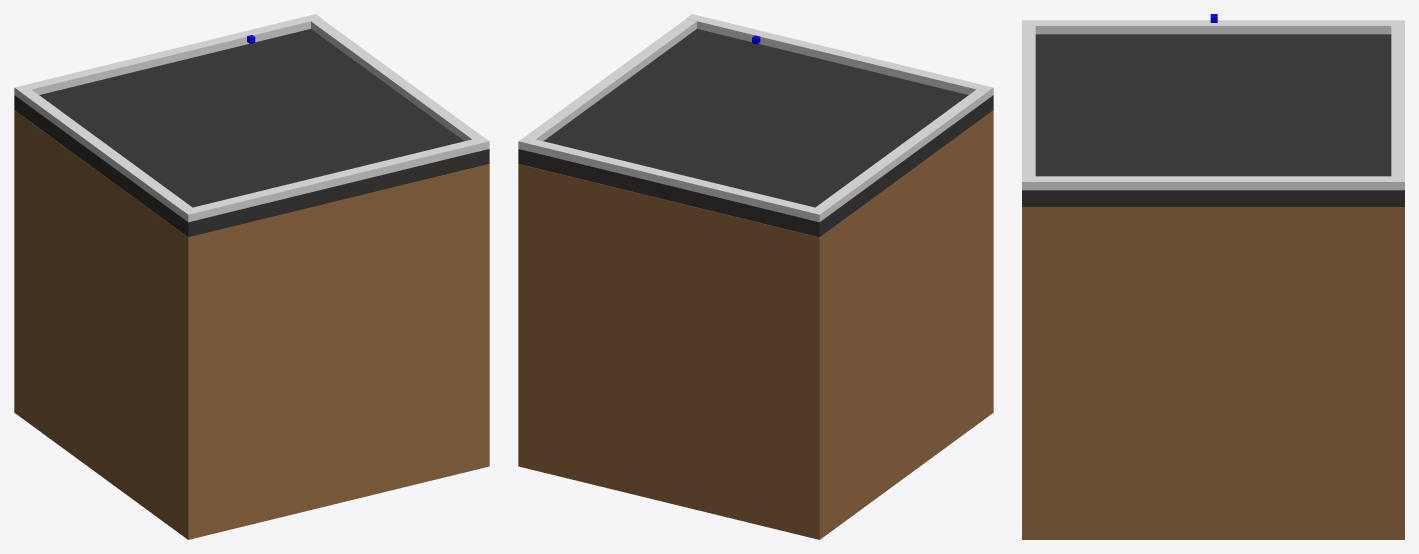
Rendered from road-1-transformed.glb.
3 renders of one model, left to right at view 1: azimuth 30°, elevation 25°; view 2: azimuth 150°, elevation 25°; view 3: azimuth 270°, elevation 25°, orthographic. The views are drawn at different scales.
Parts seen in each view (by area): view 1: Block, Road, BorderX1, BorderX2, BorderY2, BorderY1; view 2: Block, Road, BorderX2, BorderX1, BorderY2, BorderY1; view 3: Block, Road, BorderY1, BorderY2, BorderX1, BorderX2.
Part boxes in pixels (left/top/right/bottom): Block: left=14, top=110, right=489, bottom=539; Road: left=14, top=29, right=489, bottom=237; BorderX1: left=182, top=136, right=489, bottom=219; BorderX2: left=15, top=14, right=321, bottom=94; BorderY2: left=14, top=87, right=198, bottom=222; BorderY1: left=311, top=18, right=489, bottom=151; Block: left=518, top=110, right=993, bottom=539; Road: left=518, top=29, right=993, bottom=237; BorderX2: left=518, top=136, right=825, bottom=219; BorderX1: left=686, top=14, right=992, bottom=94; BorderY2: left=809, top=87, right=993, bottom=222; BorderY1: left=518, top=18, right=696, bottom=151; Block: left=1022, top=207, right=1404, bottom=539; Road: left=1022, top=34, right=1404, bottom=206; BorderY1: left=1035, top=176, right=1391, bottom=190; BorderY2: left=1035, top=20, right=1391, bottom=34; BorderX1: left=1022, top=20, right=1035, bottom=190; BorderX2: left=1391, top=20, right=1404, bottom=190.
Size of the model in its own units: 2 by 2.56 by 2.
